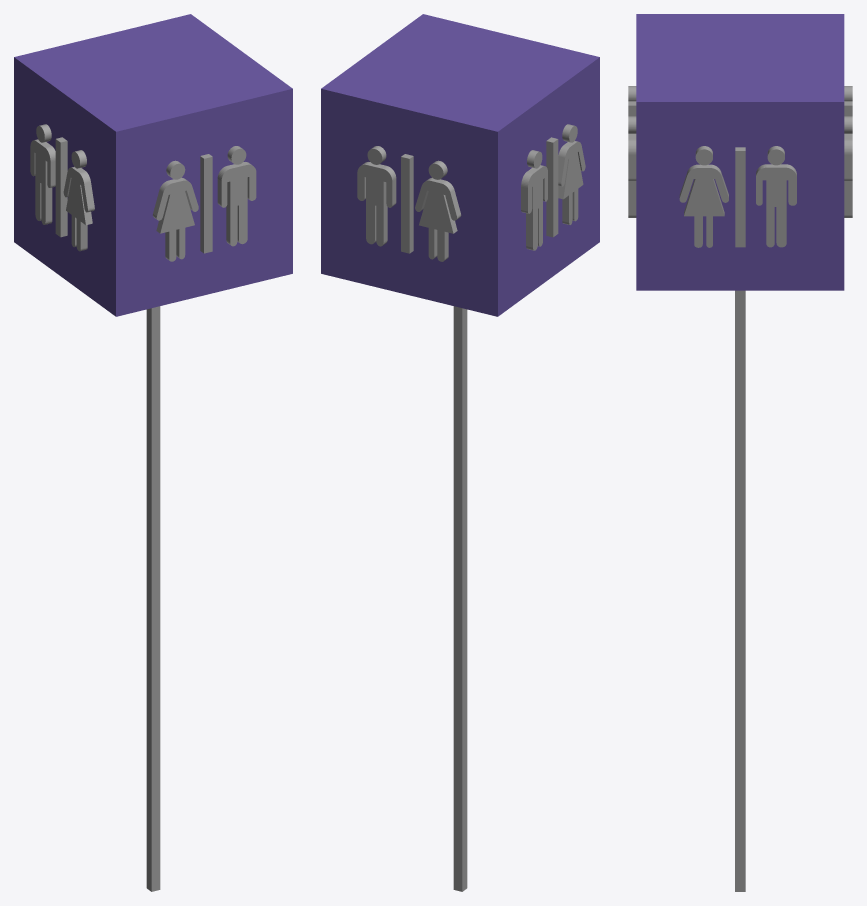
The model's file is toilets.obj.
3 renders of one model, left to right at view 1: azimuth 30°, elevation 25°; view 2: azimuth 150°, elevation 25°; view 3: azimuth 270°, elevation 25°, orthographic.
Size of the model in its own units: 2.16 by 8.82 by 2.16.
